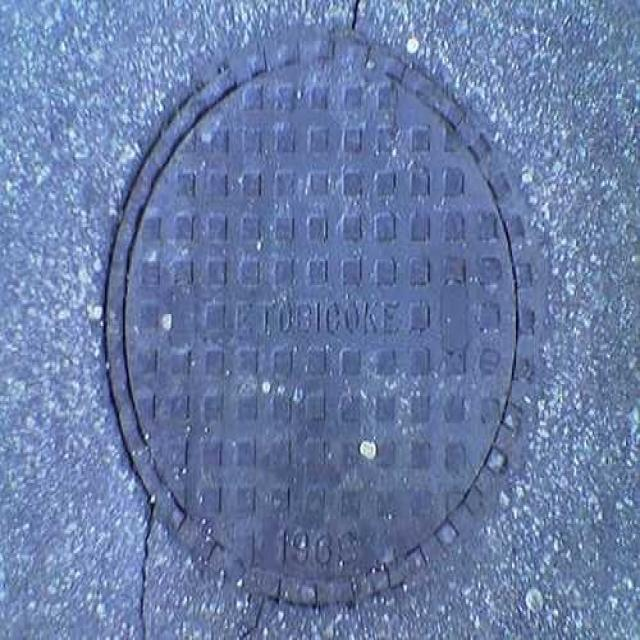manhole: (106, 30, 536, 604)
